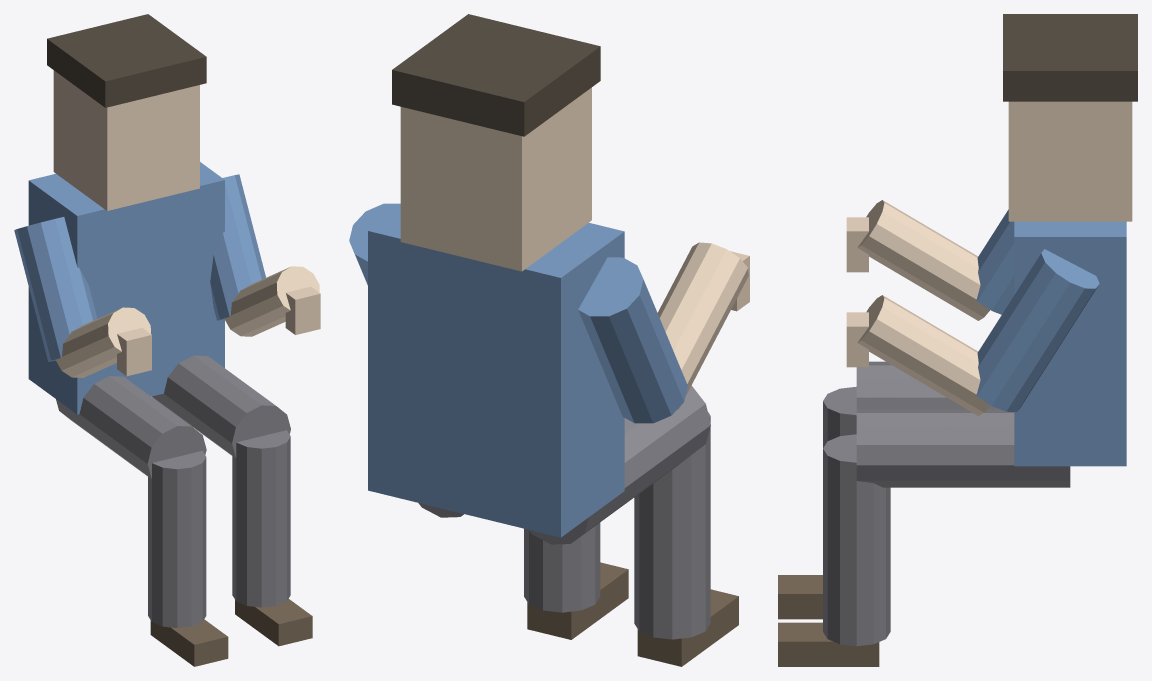
File: character.glb
3 views of the same model, side by side, from view 1: azimuth 30°, elevation 25°; view 2: azimuth 150°, elevation 25°; view 3: azimuth 270°, elevation 25° (orthographic). The views are drawn at different scales.
Visible parts, largest first — view 1: Char_Torso, Char_Head, Char_Hair, Char_LegR_Lower, Char_LegL_Lower, Char_LegL_Upper, Char_LegR_Upper, Char_ArmL_Upper, Char_ArmR_Upper, Char_ArmR_Lower, Char_ArmL_Lower, Char_FootL (+3 smaller); view 2: Char_Torso, Char_Head, Char_Hair, Char_LegL_Lower, Char_ArmL_Upper, Char_ArmL_Lower, Char_LegL_Upper, Char_LegR_Lower, Char_FootL, Char_FootR, Char_ArmR_Upper; view 3: Char_Torso, Char_Head, Char_LegR_Upper, Char_LegR_Lower, Char_Hair, Char_ArmR_Upper, Char_ArmL_Lower, Char_ArmR_Lower, Char_LegL_Upper, Char_FootR, Char_ArmL_Upper, Char_FootL (+3 smaller).
Boxes of the visible parts, x1,y1,x2,y2 form: Char_Torso: (28, 162, 224, 414); Char_Head: (53, 70, 199, 210); Char_Hair: (47, 14, 206, 107); Char_LegR_Lower: (232, 430, 290, 607); Char_LegL_Lower: (148, 450, 206, 627); Char_LegL_Upper: (56, 376, 206, 478); Char_LegR_Upper: (152, 355, 290, 457); Char_ArmL_Upper: (14, 217, 97, 361); Char_ArmR_Upper: (210, 174, 265, 320); Char_ArmR_Lower: (224, 266, 319, 336); Char_ArmL_Lower: (55, 307, 150, 377); Char_FootL: (150, 619, 228, 666); Char_Torso: (368, 207, 624, 537); Char_Head: (400, 87, 591, 271); Char_Hair: (392, 14, 600, 136); Char_LegL_Lower: (634, 411, 710, 639); Char_ArmL_Upper: (578, 257, 687, 423); Char_ArmL_Lower: (657, 242, 748, 409); Char_LegL_Upper: (529, 385, 710, 544); Char_LegR_Lower: (524, 522, 600, 612); Char_FootL: (637, 589, 738, 666); Char_FootR: (527, 562, 628, 639); Char_ArmR_Upper: (349, 203, 400, 285); Char_Torso: (1014, 221, 1126, 466); Char_Head: (1008, 101, 1132, 221); Char_LegR_Upper: (856, 409, 1070, 487); Char_LegR_Lower: (823, 434, 890, 646); Char_Hair: (1003, 14, 1137, 101); Char_ArmR_Upper: (976, 249, 1099, 411); Char_ArmL_Lower: (857, 200, 989, 320); Char_ArmR_Lower: (857, 295, 990, 415); Char_LegL_Upper: (856, 361, 999, 409); Char_FootR: (778, 622, 879, 666); Char_ArmL_Upper: (976, 209, 1014, 314); Char_FootL: (778, 575, 822, 619).
Bounding box in the file's own units: 0.52 × 1.16 × 0.64.
